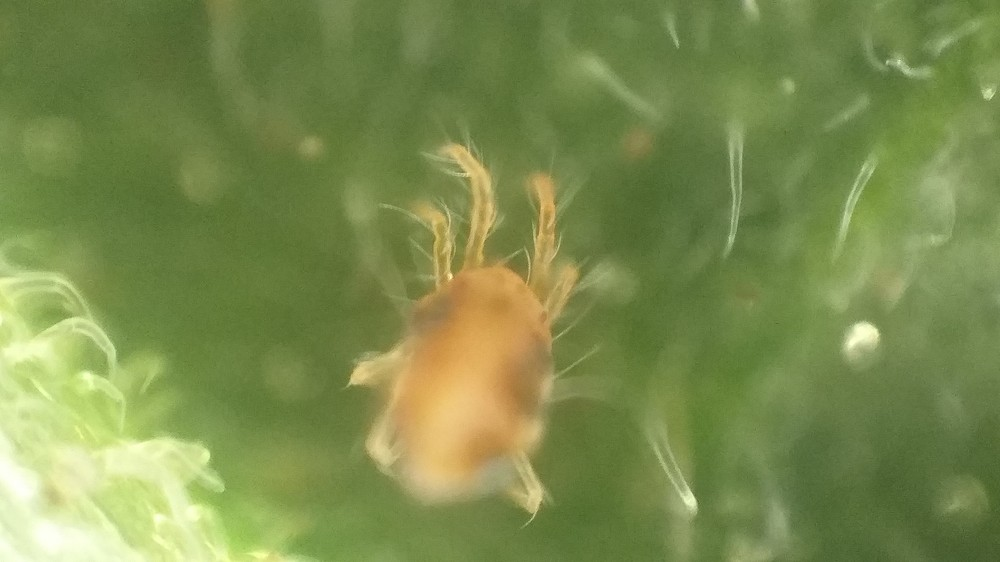Aracnido Rojo: (323, 126, 610, 523)
